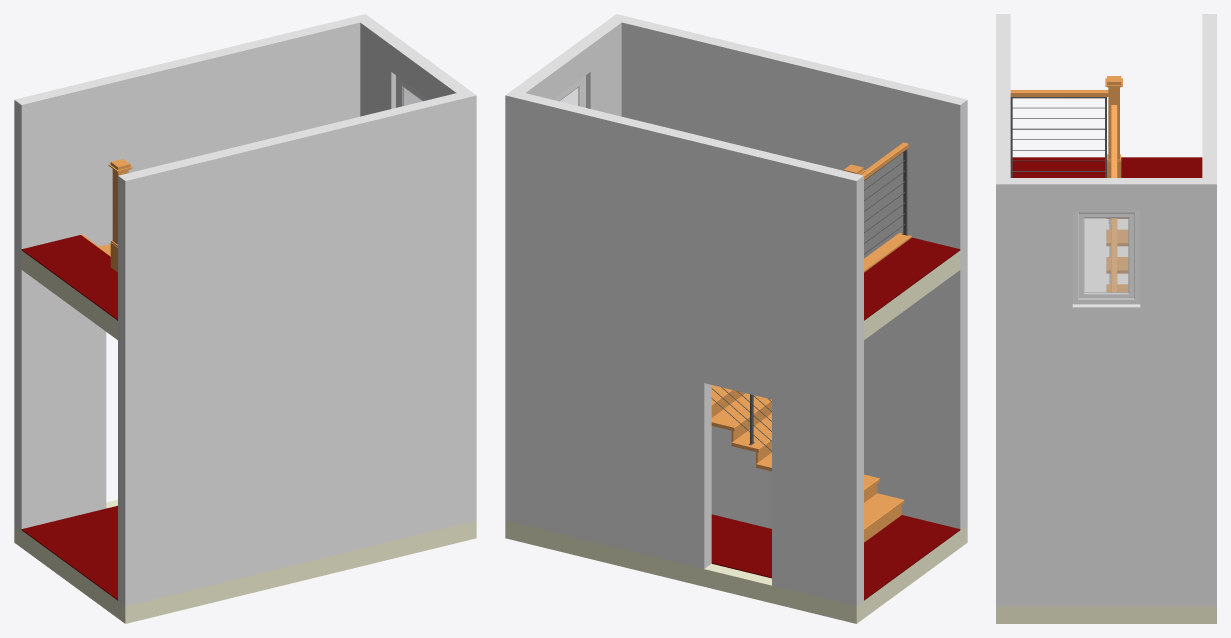
Rendered from леснтица фломандия_белый косоур.obj.
The picture shows the model from 3 angles, left to right: view 1: azimuth 30°, elevation 25°; view 2: azimuth 150°, elevation 25°; view 3: azimuth 270°, elevation 25°; orthographic projection.
Size of the model in its own units: 4.15 by 5 by 2.28.
